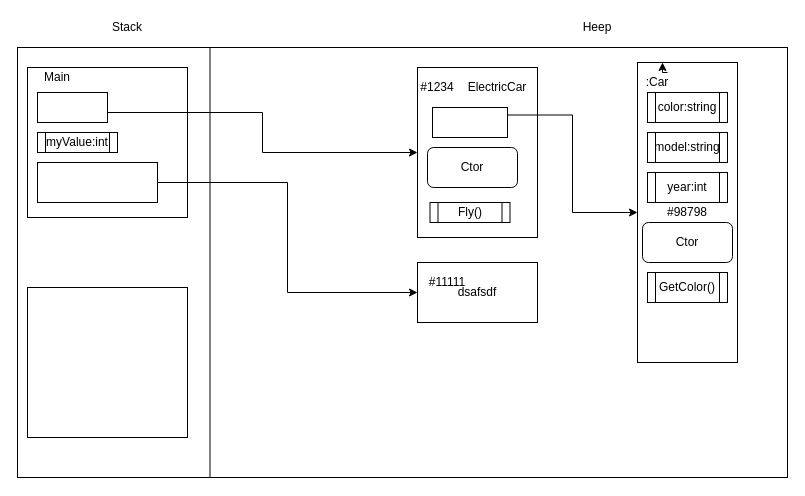
Image size: 805x496. Some labels were removed from this diagram. Here are the shapes that lost their labels. From the top down, the centre of each, then its label:
(72,107): myCar:Car
(470,122): #98798 base:Car
(97,182): myString:string
(107,362): MyMethod
